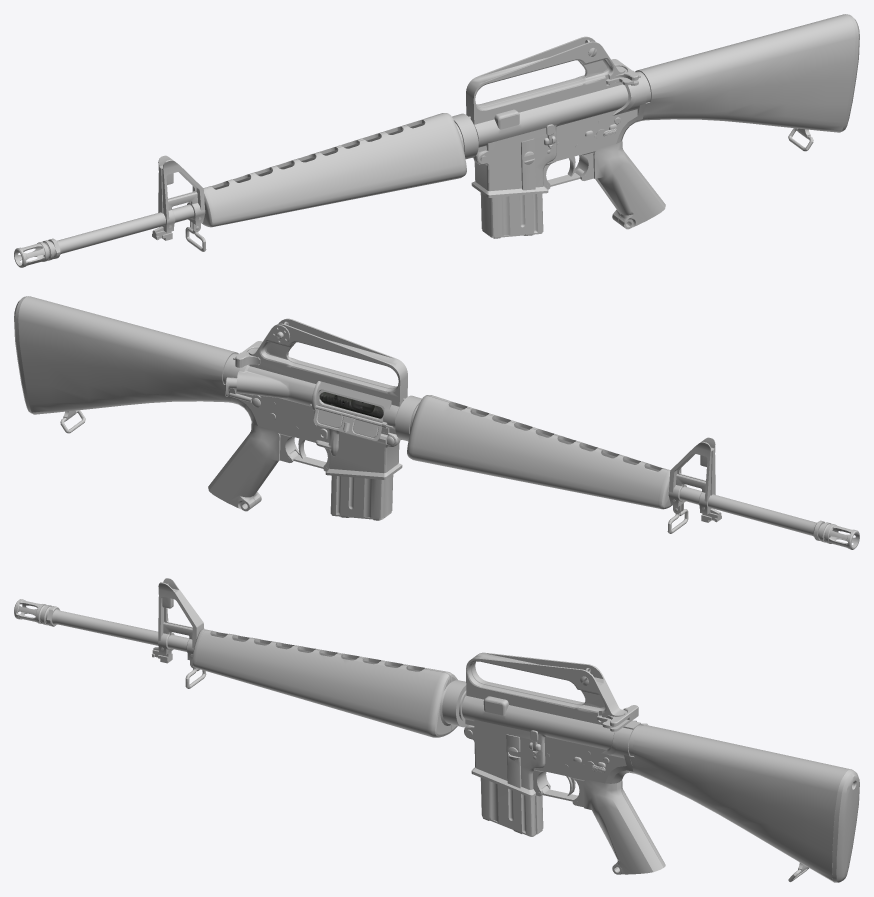
3 renders of one model, top to bottom at view 1: azimuth 30°, elevation 25°; view 2: azimuth 150°, elevation 25°; view 3: azimuth 330°, elevation 25°, orthographic.
Parts seen in each view (by area): view 1: Stock.002, UpperReceiver.002, CarryHandle.002, Mag.002; view 2: Stock.002, UpperReceiver.002, CarryHandle.002, Mag.002, BoltGroup.005; view 3: Stock.002, UpperReceiver.002, CarryHandle.002, Mag.002.
Part boxes in pixels (x1,y1,x2,y2): Stock.002: (471, 14, 859, 229); UpperReceiver.002: (14, 113, 478, 267); CarryHandle.002: (466, 36, 635, 152); Mag.002: (480, 150, 543, 238); Stock.002: (14, 296, 402, 511); UpperReceiver.002: (395, 395, 859, 549); CarryHandle.002: (225, 318, 407, 440); Mag.002: (330, 475, 393, 520); BoltGroup.005: (319, 392, 383, 418); Stock.002: (464, 721, 859, 882); UpperReceiver.002: (14, 578, 467, 737); CarryHandle.002: (462, 652, 647, 754); Mag.002: (480, 778, 543, 836).
Size of the model in its own units: 963 by 214 by 69.01.
